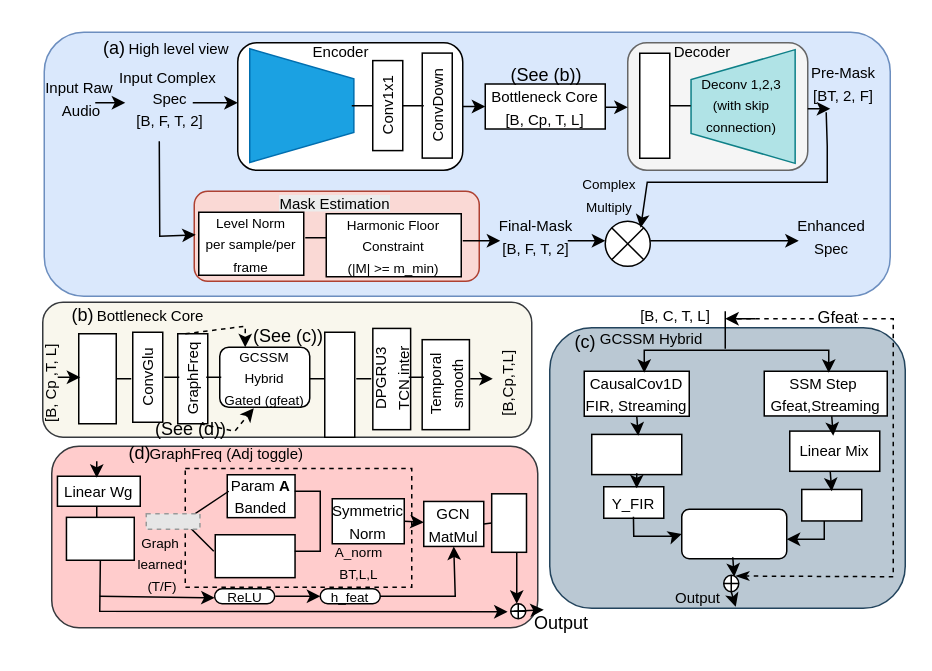
Image size: 932x671. Some labels were removed from this diagram. Grey dashed boxes stand in for pictures. Here are the shapes that lost their labels. From the top down, the centre of each, then its label:
At (301,104): "Conv 1,2,3 (Dynamic Subband)".
At (654,105): "ConvUp".
At (96,378): "DPGRU1 TCN intra".
At (339,384): "FreqAttention".
At (636,454): "Pointwise Linear".
At (508,522): "hfeat [B,C,T,L]".
At (831,504): "Y_SSM".
At (99,538): "x_proj BT,L,C".
At (733,533): "SoftMax Alpha/Beta".
At (254,555): "Param Softplus( θ )".
